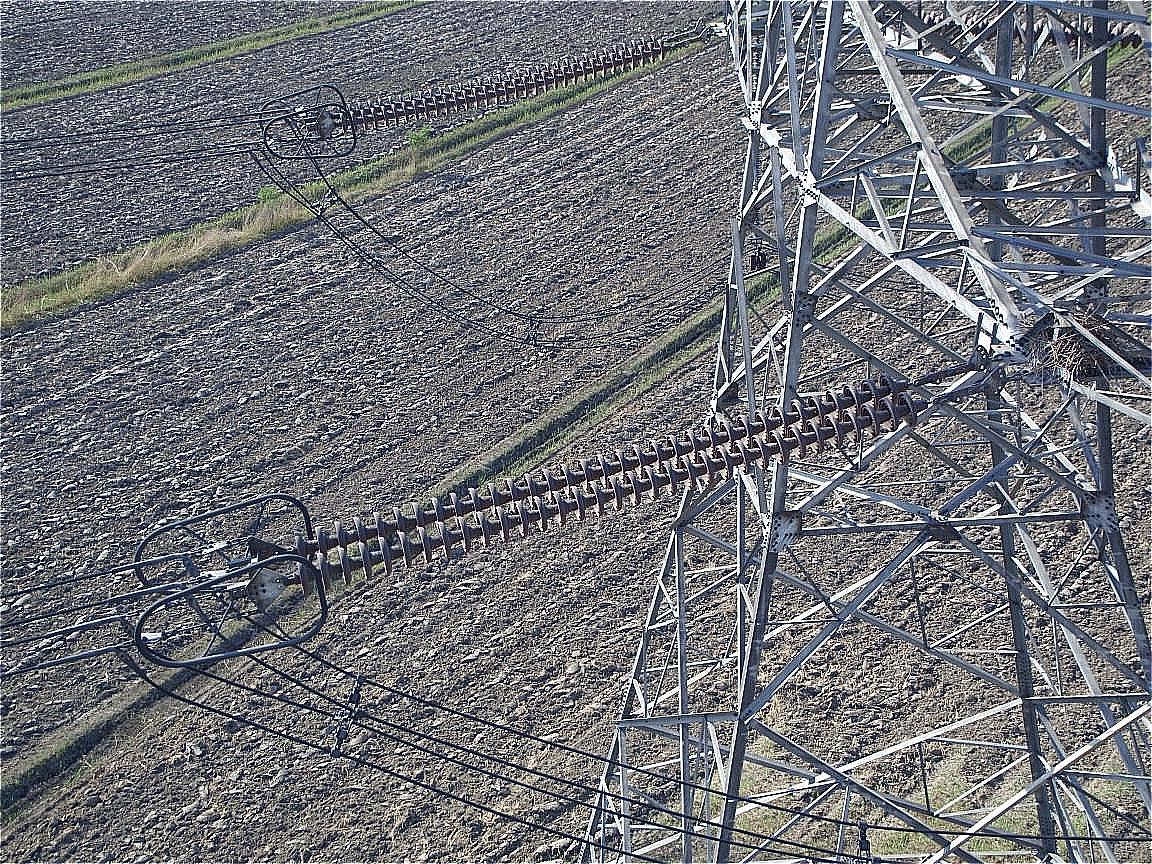insultor1: (260, 367, 950, 603), (304, 26, 685, 130)
